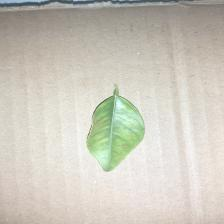greening: (82, 83, 148, 174)
